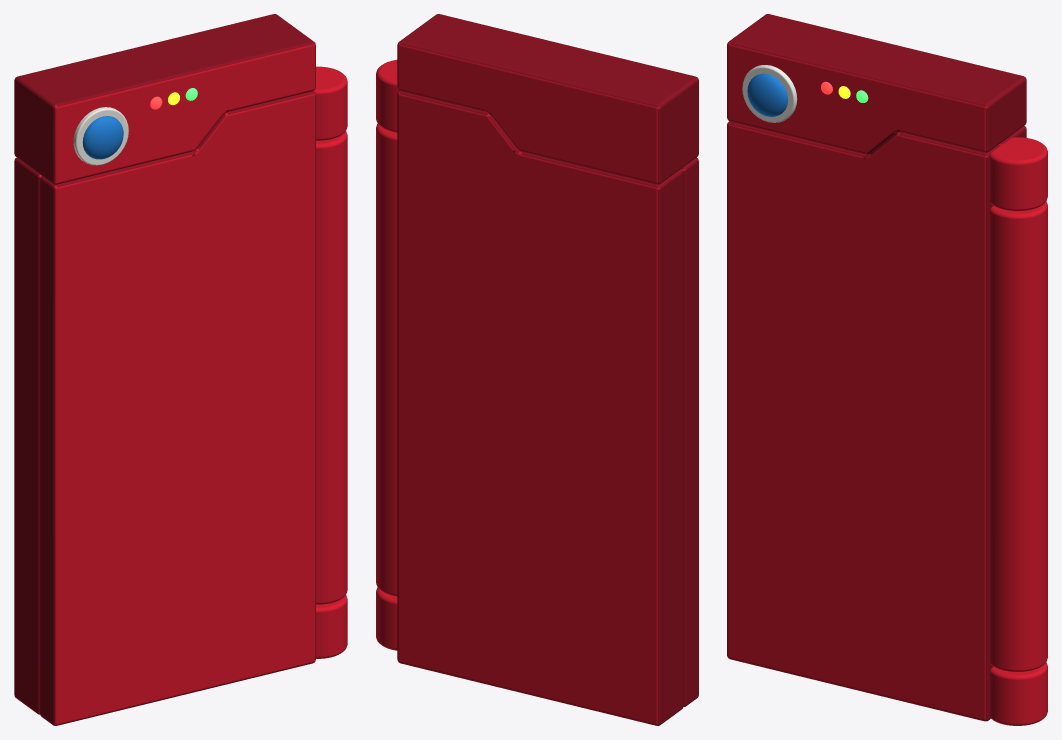
The model's file is pokedex-9x19.glb.
3 renders of one model, left to right at view 1: azimuth 30°, elevation 25°; view 2: azimuth 150°, elevation 25°; view 3: azimuth 330°, elevation 25°, orthographic.
Parts seen in each view (by area): view 1: Cover, BodyTop, Hinge, Body, HingeTop, HingeBottom, Lens, LensRing; view 2: Body, BodyTop, Hinge, Cover, HingeTop, HingeBottom; view 3: Cover, Hinge, BodyTop, HingeTop, HingeBottom, Lens, LensRing.
Boxes of the visible parts, bbox=[...] form: Cover: bbox=[40, 91, 315, 725]; BodyTop: bbox=[14, 14, 315, 184]; Hinge: bbox=[316, 131, 347, 604]; Body: bbox=[14, 157, 41, 714]; HingeTop: bbox=[313, 66, 347, 140]; HingeBottom: bbox=[316, 595, 347, 658]; Lens: bbox=[82, 116, 123, 159]; LensRing: bbox=[73, 107, 128, 165]; Body: bbox=[397, 91, 683, 725]; BodyTop: bbox=[397, 14, 698, 184]; Hinge: bbox=[376, 123, 397, 596]; Cover: bbox=[681, 157, 698, 706]; HingeTop: bbox=[376, 60, 399, 132]; HingeBottom: bbox=[376, 587, 397, 650]; Cover: bbox=[727, 121, 1000, 721]; Hinge: bbox=[990, 201, 1047, 671]; BodyTop: bbox=[727, 14, 1026, 154]; HingeTop: bbox=[990, 137, 1047, 211]; HingeBottom: bbox=[990, 662, 1047, 725]; Lens: bbox=[747, 73, 787, 116]; LensRing: bbox=[742, 65, 797, 122].
Bounding box in the file's own units: 0.103 × 0.2007 × 0.029.
